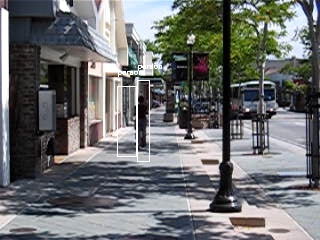person: (132, 96, 151, 153), (131, 96, 150, 153), (133, 96, 152, 153), (132, 95, 151, 152), (132, 97, 151, 154)
target_negative: (110, 86, 174, 238), (159, 125, 250, 170), (127, 209, 263, 217), (15, 186, 111, 194), (19, 237, 170, 240), (317, 52, 319, 210)
